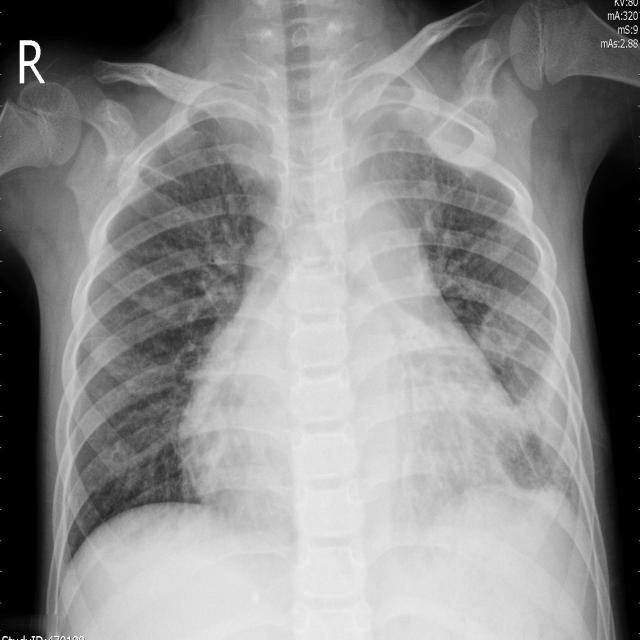low-pneumonia: (500, 326, 587, 477), (368, 109, 452, 251)
